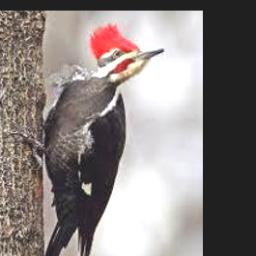Woodpecker: (11, 25, 163, 256)
